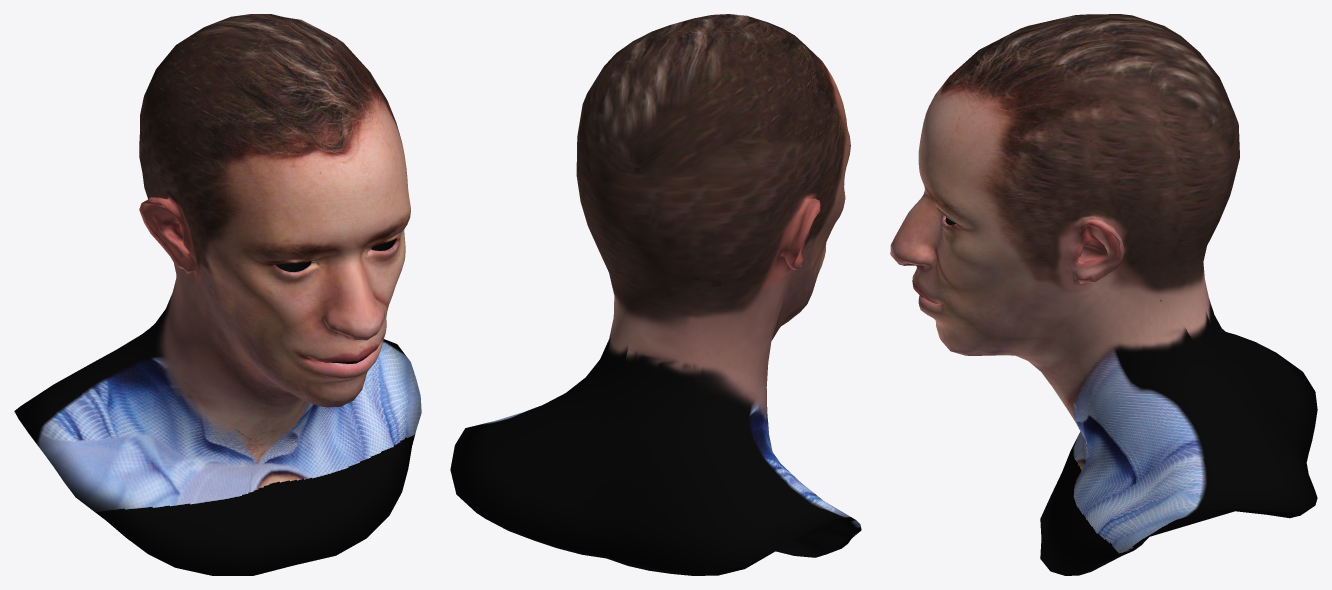
3 views of the same model, side by side, from view 1: azimuth 30°, elevation 25°; view 2: azimuth 150°, elevation 25°; view 3: azimuth 270°, elevation 25° (orthographic).
Parts seen in each view (by area): view 1: cabezinha; view 2: cabezinha; view 3: cabezinha.
Boxes of the visible parts, x1=… form: cabezinha: x1=14, y1=14, x2=421, y2=575; cabezinha: x1=450, y1=14, x2=861, y2=575; cabezinha: x1=890, y1=14, x2=1317, y2=575.
Size of the model in its own units: 0.2563 by 0.3446 by 0.2583.
1 material, 1 textured.
